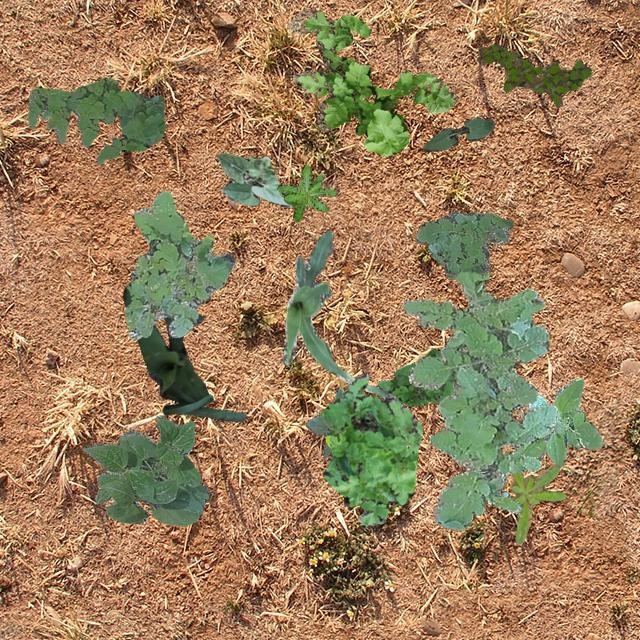crop: (282, 230, 388, 396), (121, 286, 246, 420), (82, 414, 208, 524), (512, 378, 602, 466), (215, 152, 291, 206), (421, 116, 494, 150)
weed: (401, 268, 556, 528), (286, 8, 456, 156), (123, 190, 234, 338), (321, 372, 422, 526), (28, 76, 164, 162), (476, 44, 590, 106), (414, 210, 512, 278), (504, 449, 564, 544), (377, 348, 452, 406), (276, 164, 336, 222), (304, 386, 342, 456)
